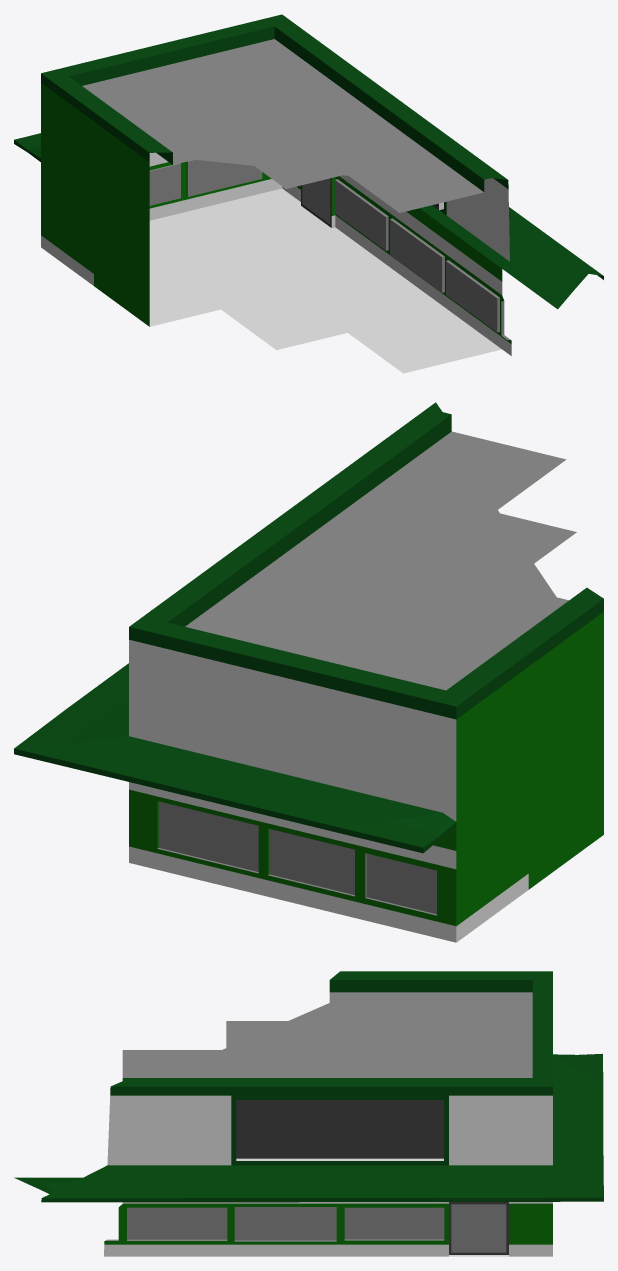
Rendered from accw.fbx.
3 views of the same model, one above another, from view 1: azimuth 30°, elevation 25°; view 2: azimuth 150°, elevation 25°; view 3: azimuth 270°, elevation 25° (orthographic). The views are drawn at different scales.
Visible parts, largest first — view 1: Cube.021; view 2: Cube.021; view 3: Cube.021.
Boxes of the visible parts, left/top/right/bottom form: Cube.021: left=14, top=14, right=603, bottom=373; Cube.021: left=14, top=402, right=603, bottom=942; Cube.021: left=14, top=971, right=603, bottom=1256.
Bounding box in the file's own units: 65.27 × 35.84 × 113.
